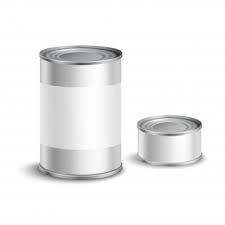Tin: (20, 20, 225, 189)
